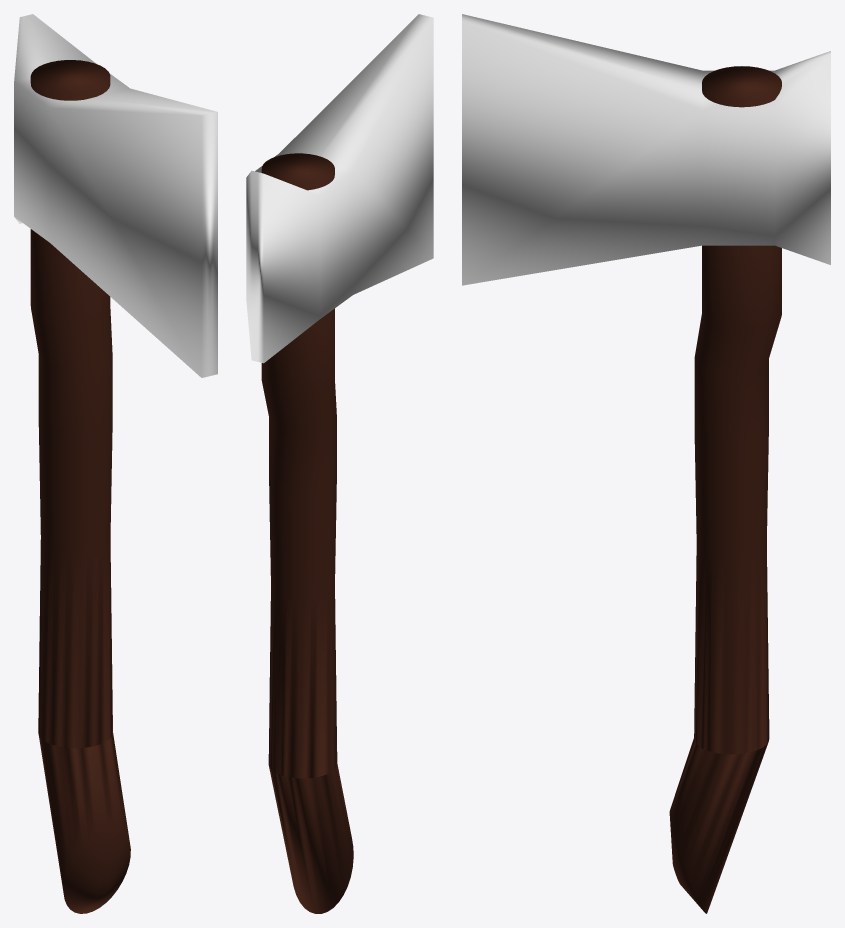
File: axe.glb
3 renders of one model, left to right at view 1: azimuth 30°, elevation 25°; view 2: azimuth 150°, elevation 25°; view 3: azimuth 270°, elevation 25°, orthographic. The views are drawn at different scales.
Visible parts, largest first — view 1: Cylinder, Cube; view 2: Cylinder, Cube; view 3: Cube, Cylinder.
Boxes of the visible parts, x1=… form: Cylinder: x1=30, y1=60, x2=130, y2=913; Cube: x1=14, y1=14, x2=217, y2=377; Cylinder: x1=261, y1=153, x2=353, y2=913; Cube: x1=246, y1=14, x2=433, y2=363; Cube: x1=462, y1=14, x2=830, y2=285; Cylinder: x1=669, y1=66, x2=781, y2=913.
Bounding box in the file's own units: 0.4109 × 4.34 × 1.62.
